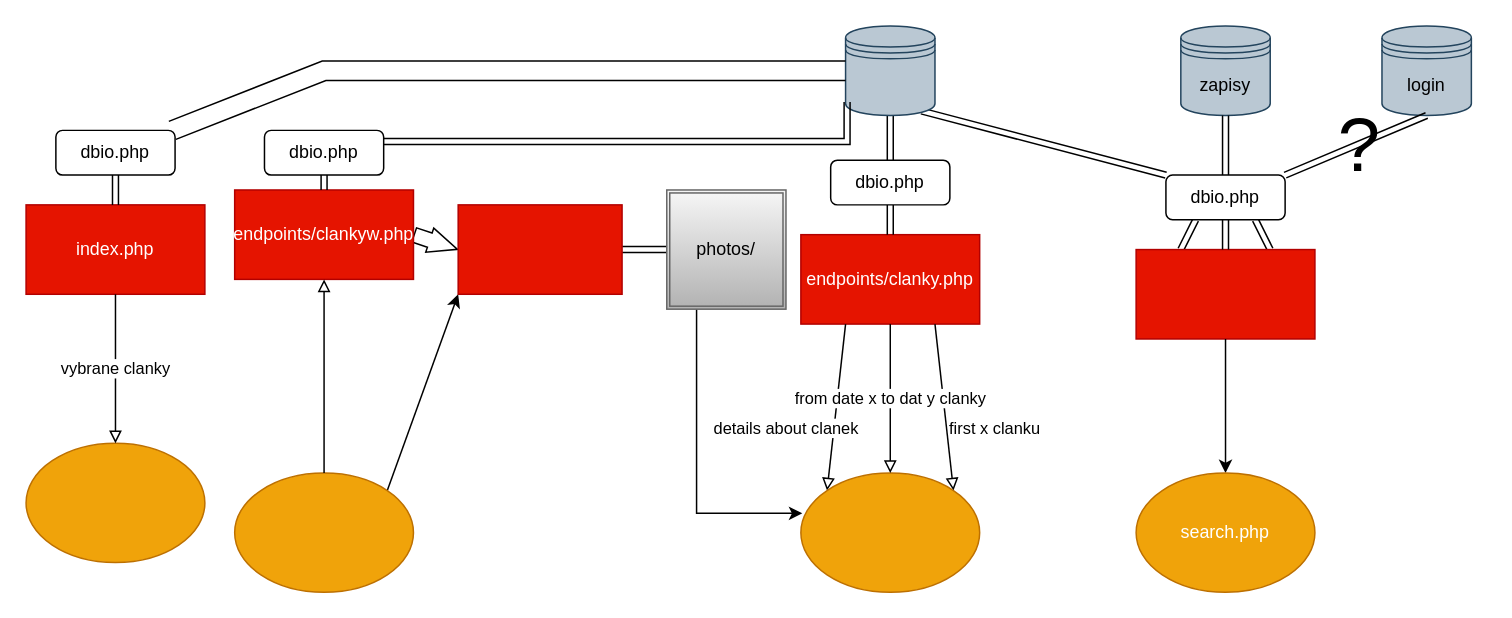
The diagram is 1512 pixels wide and 618 high, and some of its shapes have lost their labels. Here are the shapes that lost their labels. From the top down, the box of each, then its label:
(844, 25, 935, 115): clanky
(457, 203, 622, 294): endpoints/phto.php
(1135, 248, 1315, 339): endpoints/search.php
(25, 442, 205, 562): index
(233, 472, 413, 592): admin/clanky.php
(799, 472, 980, 592): articles.php
